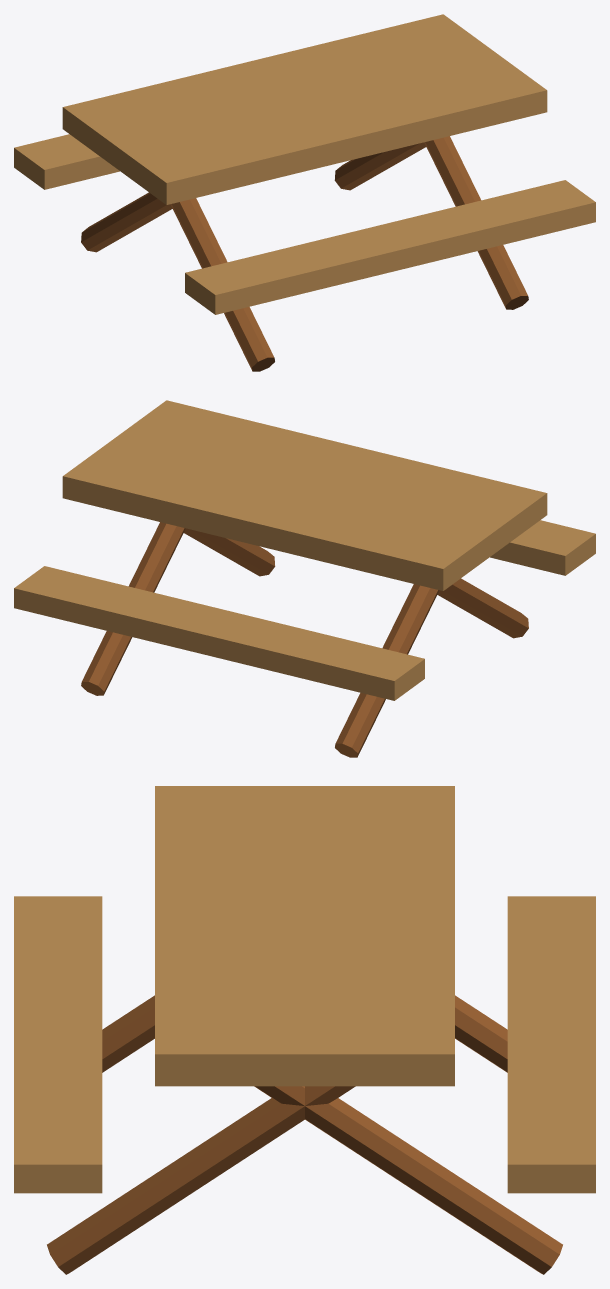
File: picnic_table.glb
The picture shows the model from 3 angles, top to bottom: view 1: azimuth 30°, elevation 25°; view 2: azimuth 150°, elevation 25°; view 3: azimuth 270°, elevation 25°; orthographic projection. The views are drawn at different scales.
Visible parts, largest first — view 1: picnic_table_pc; view 2: picnic_table_pc; view 3: picnic_table_pc.
Part boxes in pixels (x1,y1,x2,y2): picnic_table_pc: (14,14,595,371); picnic_table_pc: (14,400,595,757); picnic_table_pc: (14,786,595,1274).
Size of the model in its own units: 1.8 by 0.8246 by 1.65.
